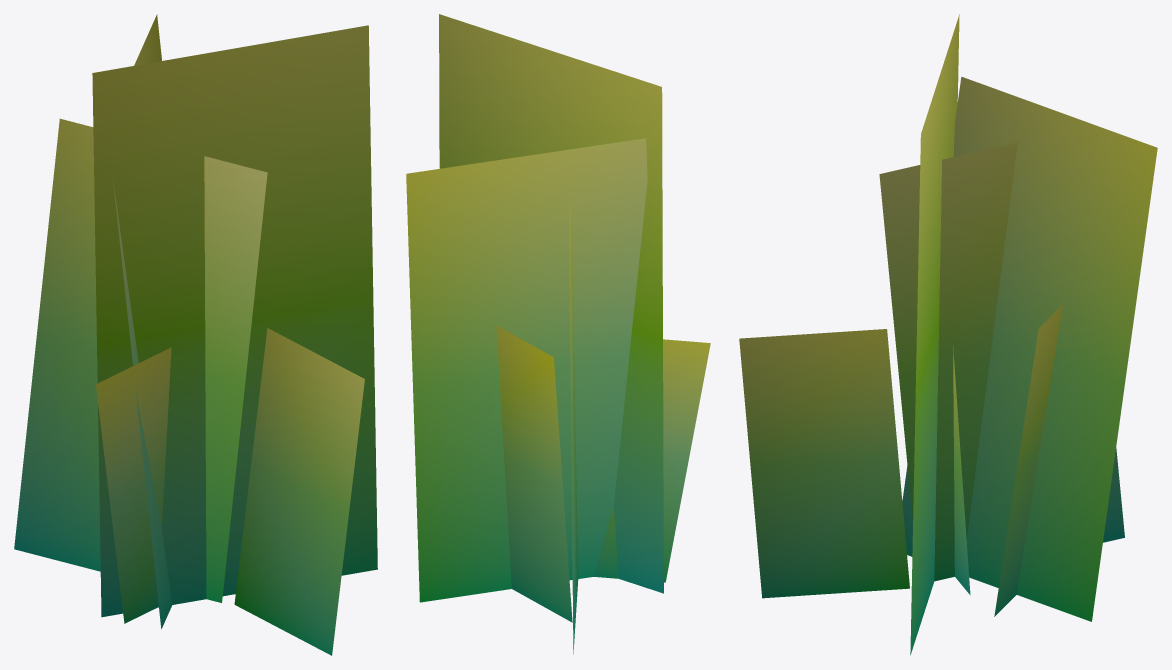
Rendered from grass_tuft_a.glb.
3 views of the same model, side by side, from view 1: azimuth 30°, elevation 25°; view 2: azimuth 150°, elevation 25°; view 3: azimuth 270°, elevation 25° (orthographic). The views are drawn at different scales.
Parts seen in each view (by area): view 1: LOD0; view 2: LOD0; view 3: LOD0.
Part boxes in pixels (box(x1,y1,x2,y2)): LOD0: box(14, 14, 377, 655); LOD0: box(406, 14, 710, 654); LOD0: box(739, 14, 1157, 655).
Size of what is drawn, in the model's own units: 0.3161 by 0.5758 by 0.4199.
